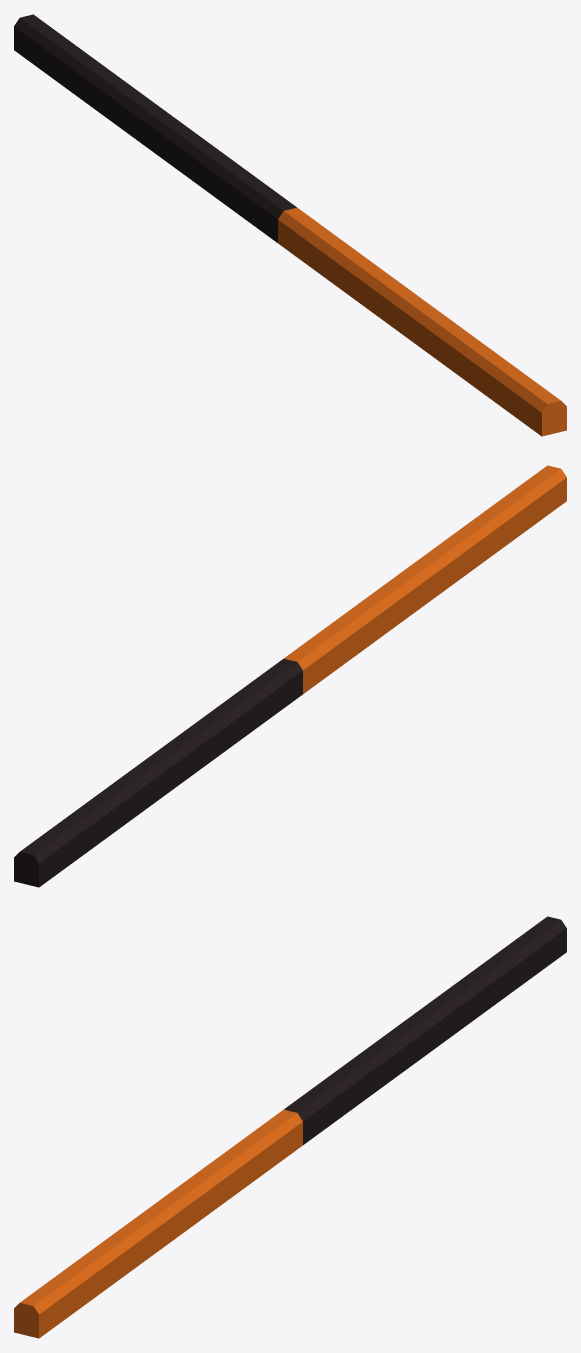
The model's file is hl_trk_curb.glb.
3 renders of one model, top to bottom at view 1: azimuth 30°, elevation 25°; view 2: azimuth 150°, elevation 25°; view 3: azimuth 330°, elevation 25°, orthographic.
Parts seen in each view (by area): view 1: hl_trk_curb; view 2: hl_trk_curb; view 3: hl_trk_curb.
Part boxes in pixels (x1,y1,x2,y2): hl_trk_curb: [14, 14, 566, 436]; hl_trk_curb: [14, 465, 566, 887]; hl_trk_curb: [14, 916, 566, 1338].
Bounding box in the file's own units: 0.2197 × 0.2598 × 8.
